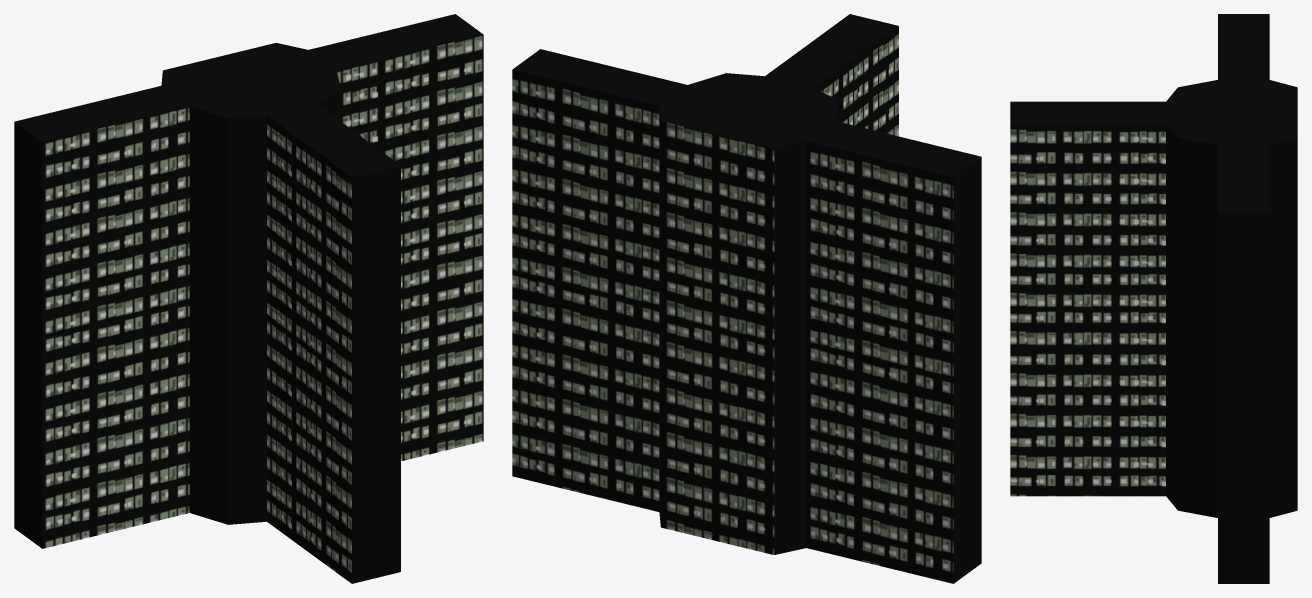
The model's file is BuildingC.FBX.
3 views of the same model, side by side, from view 1: azimuth 30°, elevation 25°; view 2: azimuth 150°, elevation 25°; view 3: azimuth 270°, elevation 25° (orthographic). The views are drawn at different scales.
Visible parts, largest first — view 1: Box003; view 2: Box003; view 3: Box003.
Boxes of the visible parts, x1,y1,x2,y2 form: Box003: [14, 14, 483, 583]; Box003: [512, 14, 981, 583]; Box003: [1010, 14, 1297, 583].
Size of the model in its own units: 2373 by 2089 by 1461.
